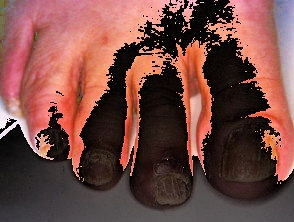Nail_psoriasis: (212, 105, 294, 195), (141, 145, 196, 212), (23, 110, 83, 168), (72, 137, 125, 191), (0, 85, 34, 124)
